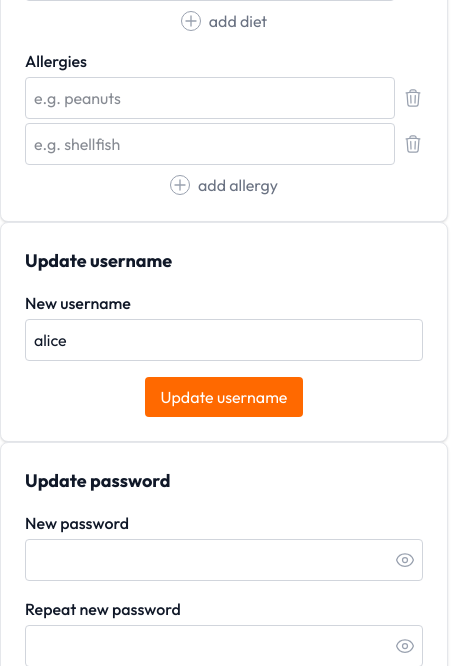
Test: ProfilePage › shows "Username already taken" on a 409 from the username PUT
(page scrolled)
Replace the text in the field labelled "New username" with "bob": (224, 340) [25, 319, 423, 361]
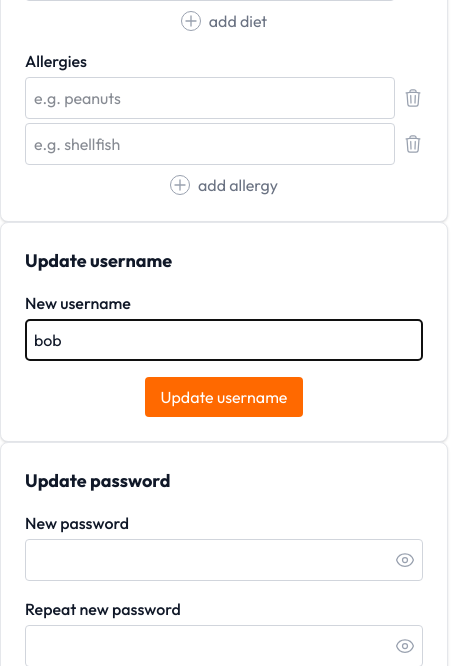
Click the button "Update username": (224, 397) [145, 377, 303, 417]
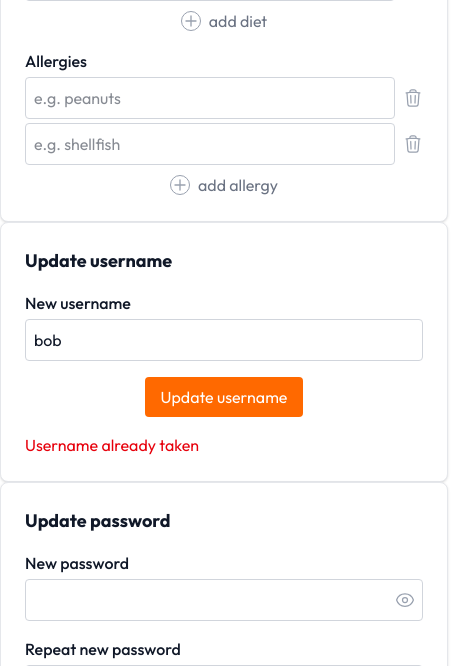
Check: the text "Username already taken" is shown, box [25, 435, 199, 455]
